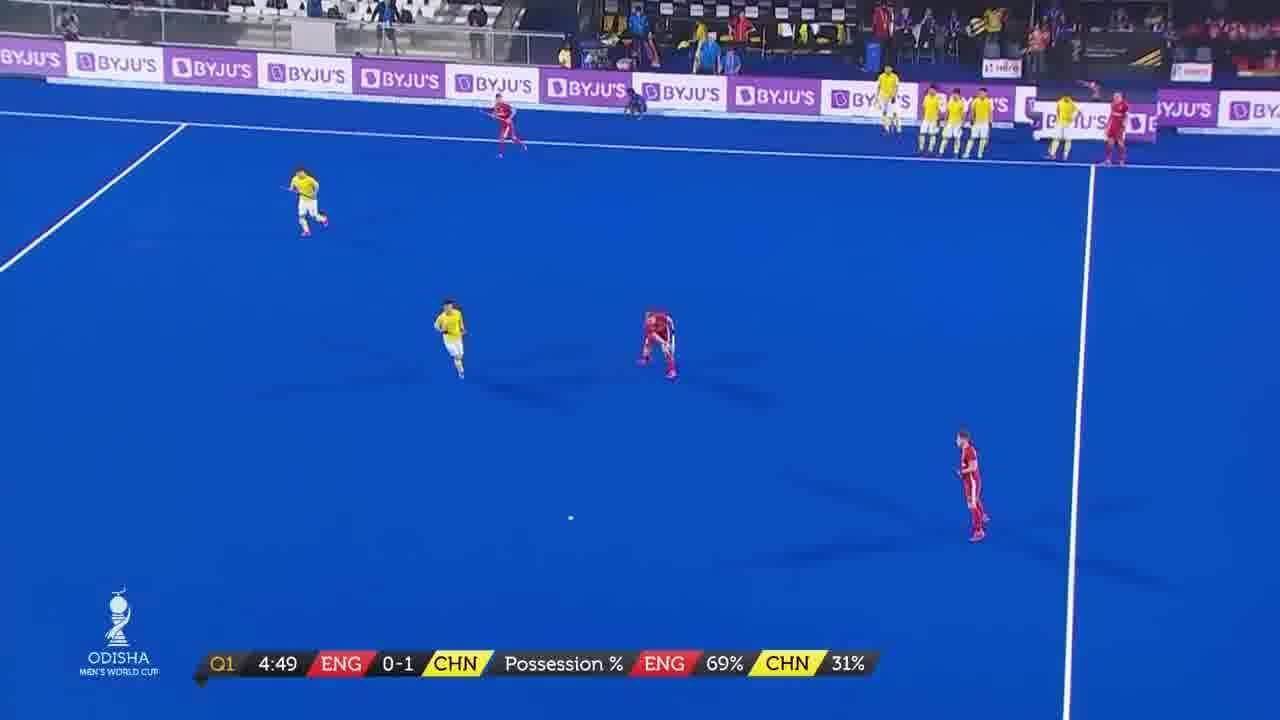ball: (562, 509, 582, 526)
